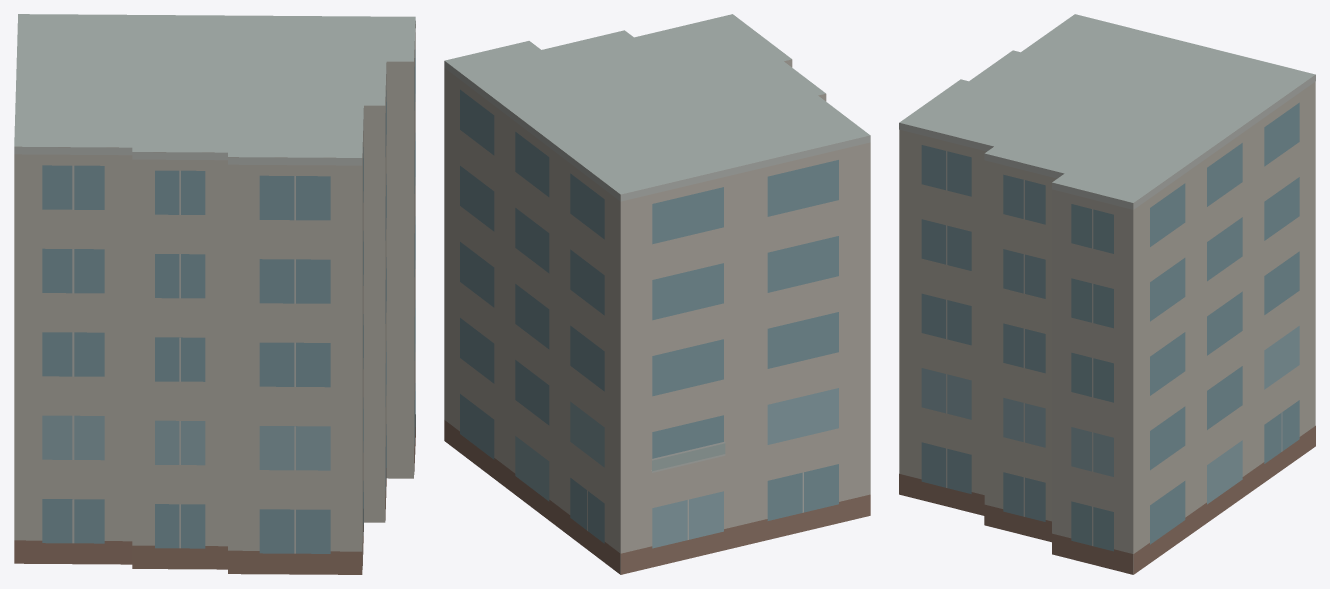
Rendered from survey-upis-32778362.glb.
The picture shows the model from 3 angles, left to right: view 1: azimuth 30°, elevation 25°; view 2: azimuth 150°, elevation 25°; view 3: azimuth 270°, elevation 25°; orthographic projection. The views are drawn at different scales.
Parts seen in each view (by area): view 1: survey-upis-32778362.tmp; view 2: survey-upis-32778362.tmp; view 3: survey-upis-32778362.tmp.
Boxes of the visible parts, left/top/right/bottom form: survey-upis-32778362.tmp: left=14, top=14, right=415, bottom=574; survey-upis-32778362.tmp: left=444, top=14, right=870, bottom=574; survey-upis-32778362.tmp: left=899, top=14, right=1315, bottom=574.
Size of the model in its own units: 14.4 by 13.2 by 13.41.
